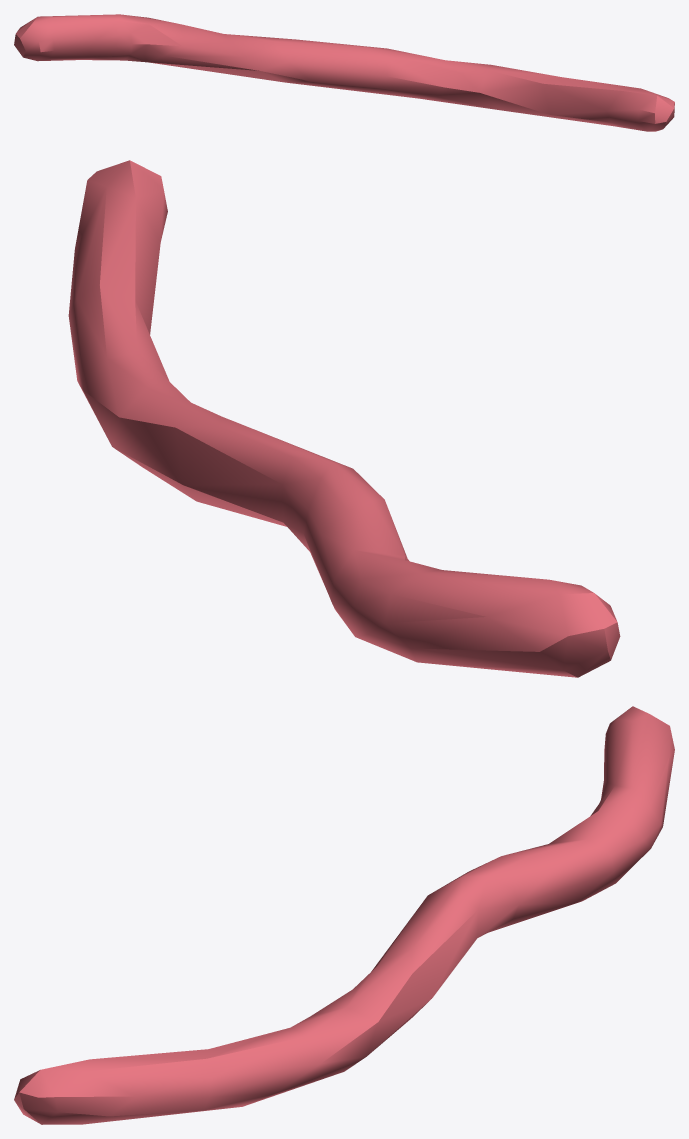
File: fma4713_fj2685.glb
The picture shows the model from 3 angles, top to bottom: view 1: azimuth 30°, elevation 25°; view 2: azimuth 150°, elevation 25°; view 3: azimuth 270°, elevation 25°; orthographic projection. The views are drawn at different scales.
Parts seen in each view (by area): view 1: FMA4713_FJ2685; view 2: FMA4713_FJ2685; view 3: FMA4713_FJ2685.
Boxes of the visible parts, x1,y1,x2,y2 form: FMA4713_FJ2685: (14, 14, 674, 131); FMA4713_FJ2685: (68, 160, 620, 677); FMA4713_FJ2685: (14, 706, 674, 1124).
Size of the model in its own units: 0.00939 by 0.0017 by 0.00779.
